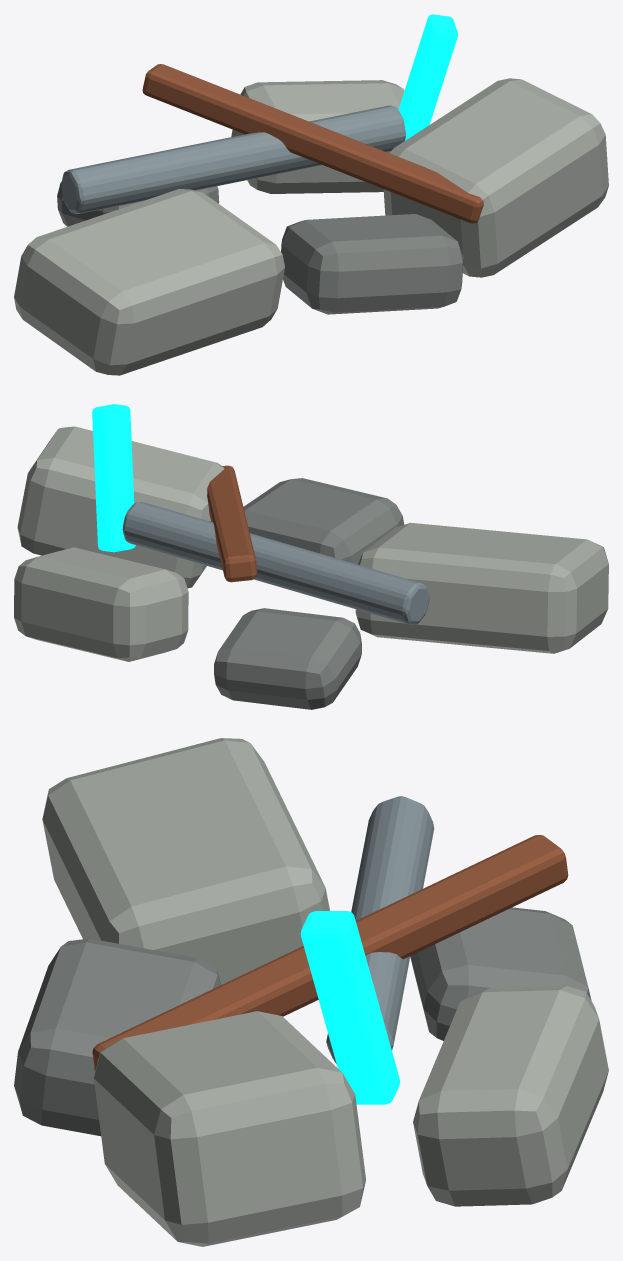
File: Debris-Pile.glb
The picture shows the model from 3 angles, top to bottom: view 1: azimuth 30°, elevation 25°; view 2: azimuth 150°, elevation 25°; view 3: azimuth 270°, elevation 25°; orthographic projection. The views are drawn at different scales.
Visible parts, largest first — view 1: Debris_Stone_0, Debris_Stone_2, Debris_Stone_1, Debris_BrokenPipe, Debris_MetalShard, Debris_Stone_4, Debris_CyanShard, Debris_Stone_3; view 2: Debris_Stone_0, Debris_Stone_4, Debris_Stone_2, Debris_BrokenPipe, Debris_Stone_3, Debris_Stone_1, Debris_CyanShard, Debris_MetalShard; view 3: Debris_Stone_2, Debris_Stone_0, Debris_Stone_4, Debris_Stone_1, Debris_MetalShard, Debris_Stone_3, Debris_CyanShard, Debris_BrokenPipe.
Boxes of the visible parts, x1,y1,x2,y2 form: Debris_Stone_0: (14,189,284,375); Debris_Stone_2: (383,78,608,277); Debris_Stone_1: (281,214,463,314); Debris_BrokenPipe: (61,105,405,213); Debris_MetalShard: (142,64,483,223); Debris_Stone_4: (231,80,404,193); Debris_CyanShard: (398,14,457,140); Debris_Stone_3: (57,182,219,226); Debris_Stone_0: (355,522,608,653); Debris_Stone_4: (14,547,188,661); Debris_Stone_2: (17,426,224,588); Debris_BrokenPipe: (122,502,429,624); Debris_Stone_3: (214,608,361,709); Debris_Stone_1: (243,478,404,564); Debris_CyanShard: (92,404,135,552); Debris_MetalShard: (207,465,257,582); Debris_Stone_2: (94,1011,365,1246); Debris_Stone_0: (42,738,329,984); Debris_Stone_4: (413,986,608,1206); Debris_Stone_1: (14,938,221,1136); Debris_MetalShard: (92,835,568,1070); Debris_Stone_3: (410,907,591,1040); Debris_CyanShard: (300,911,399,1104); Debris_BrokenPipe: (326,796,434,1063).
Bounding box in the file's own units: 1.91 × 0.6459 × 1.19.
